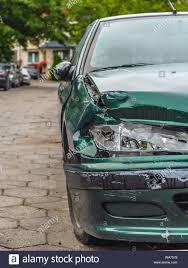Headlight-Damage: (68, 118, 187, 159)
bonnet-dent: (78, 72, 187, 118)
front-bumper-dent: (65, 153, 187, 244)
